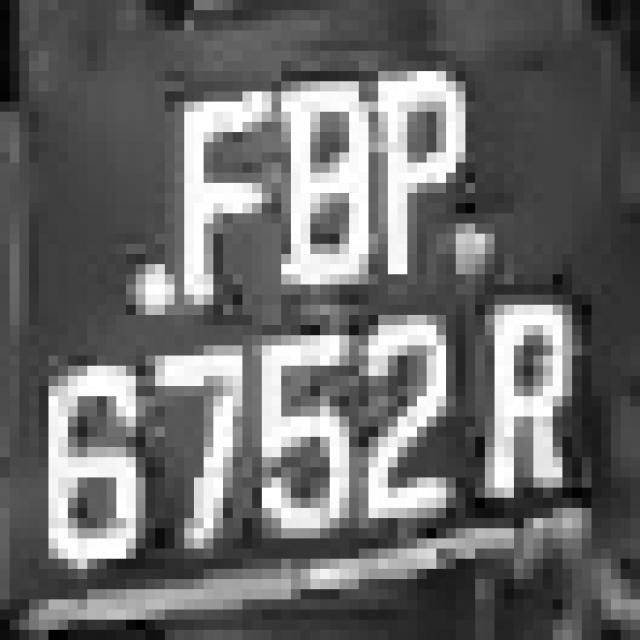2: (300, 284, 484, 538)
5: (214, 304, 368, 548)
6: (10, 325, 155, 589)
7: (126, 305, 252, 579)
B: (242, 61, 368, 284)
F: (175, 51, 272, 315)
P: (340, 20, 494, 305)
R: (446, 274, 601, 538)
